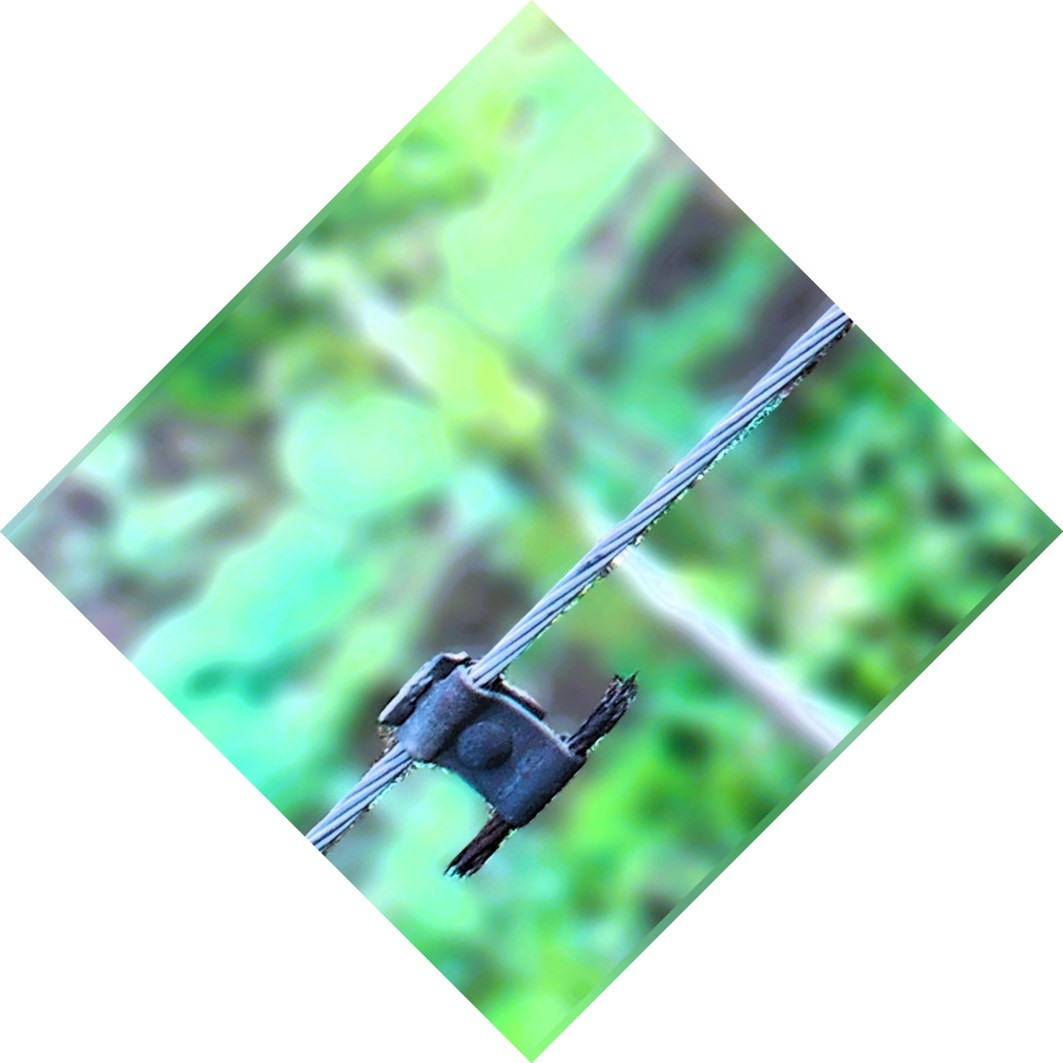Damage of shockproof hammer: (352, 623, 652, 894)
